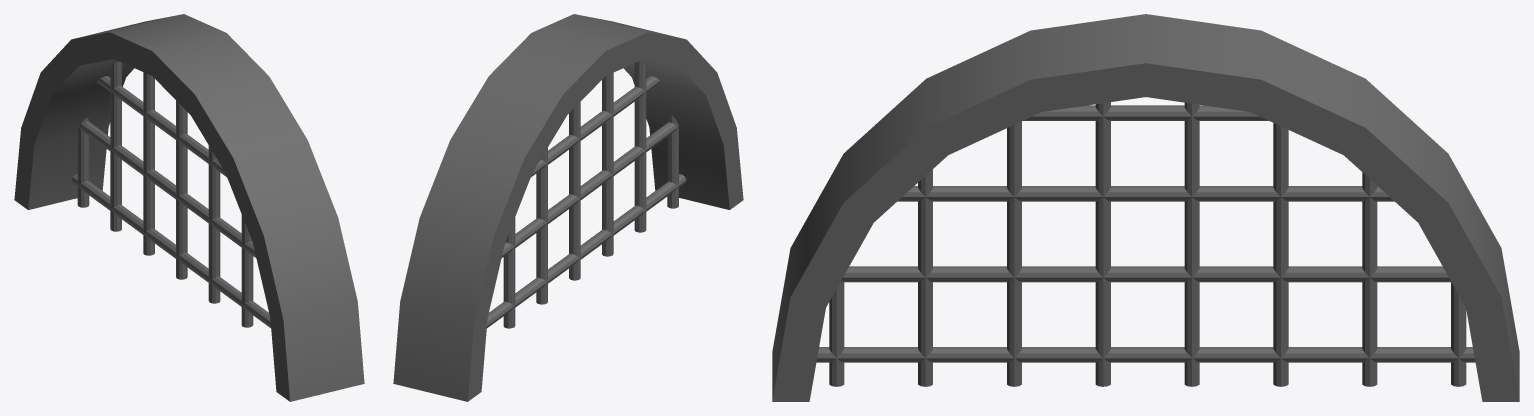
The model's file is obj_sewer_blocked_tunnel_4.fbx.
3 renders of one model, left to right at view 1: azimuth 30°, elevation 25°; view 2: azimuth 150°, elevation 25°; view 3: azimuth 270°, elevation 25°, orthographic. The views are drawn at different scales.
Visible parts, largest first — view 1: obj_sewer_blocked_tunnel_4; view 2: obj_sewer_blocked_tunnel_4; view 3: obj_sewer_blocked_tunnel_4.
Part boxes in pixels (x1=…): obj_sewer_blocked_tunnel_4: x1=14, y1=14, x2=364, y2=401; obj_sewer_blocked_tunnel_4: x1=393, y1=14, x2=743, y2=401; obj_sewer_blocked_tunnel_4: x1=772, y1=14, x2=1519, y2=401.
Size of the model in its own units: 0.8401 by 2.7 by 5.39.
1 material, 1 textured.
